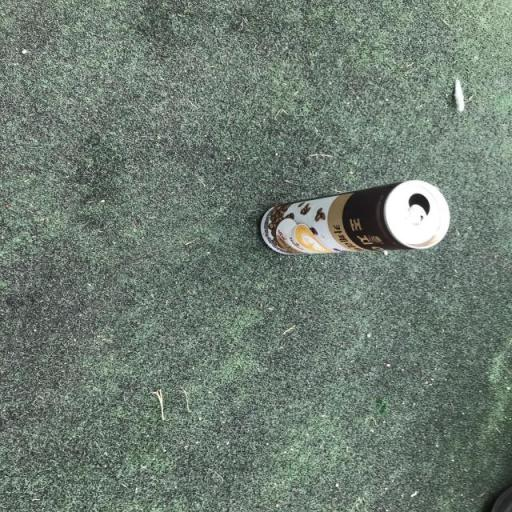metal: (199, 120, 486, 282)
